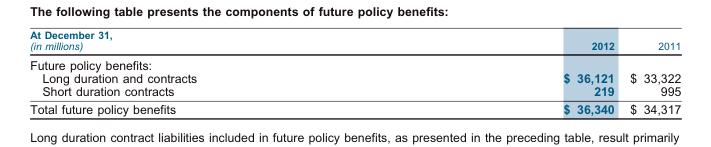table: (29, 28, 680, 115)
table column: (29, 28, 379, 115), (379, 28, 621, 115), (621, 28, 680, 115)
table column header: (29, 28, 680, 54)
table projected row header: (29, 54, 680, 71)
table row: (29, 28, 680, 54), (29, 54, 680, 71), (29, 99, 680, 115), (29, 84, 680, 99), (29, 71, 680, 84)
